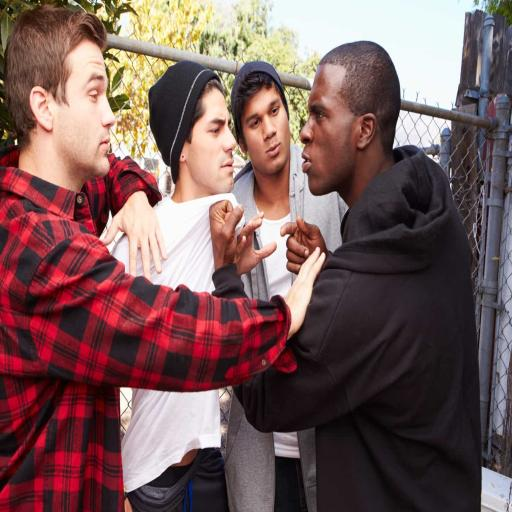fight: (131, 8, 494, 466)
